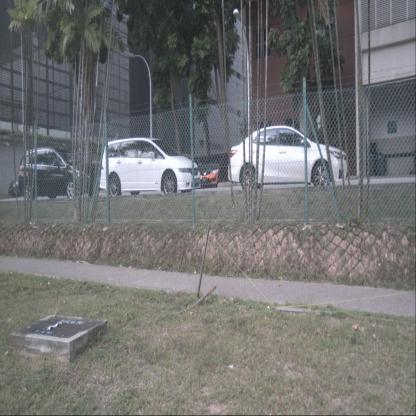vehicle-car: (228, 125, 347, 189), (99, 137, 200, 196), (18, 147, 100, 199), (196, 153, 243, 188), (8, 168, 49, 196)
